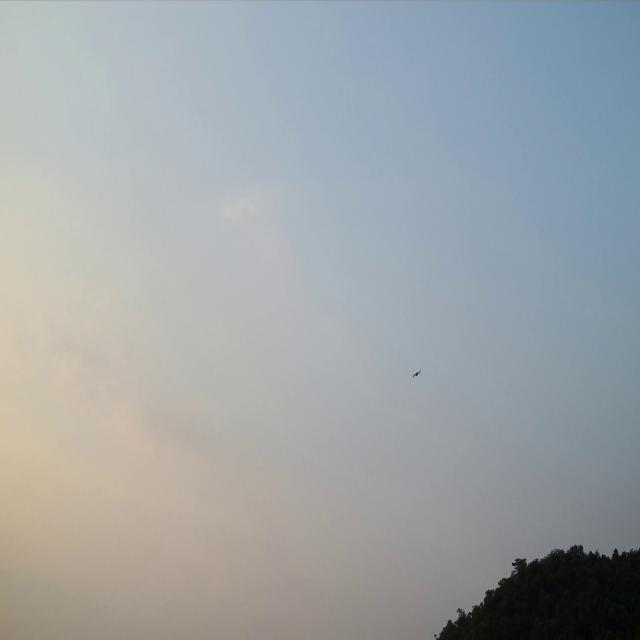drone: (412, 368, 422, 378)
